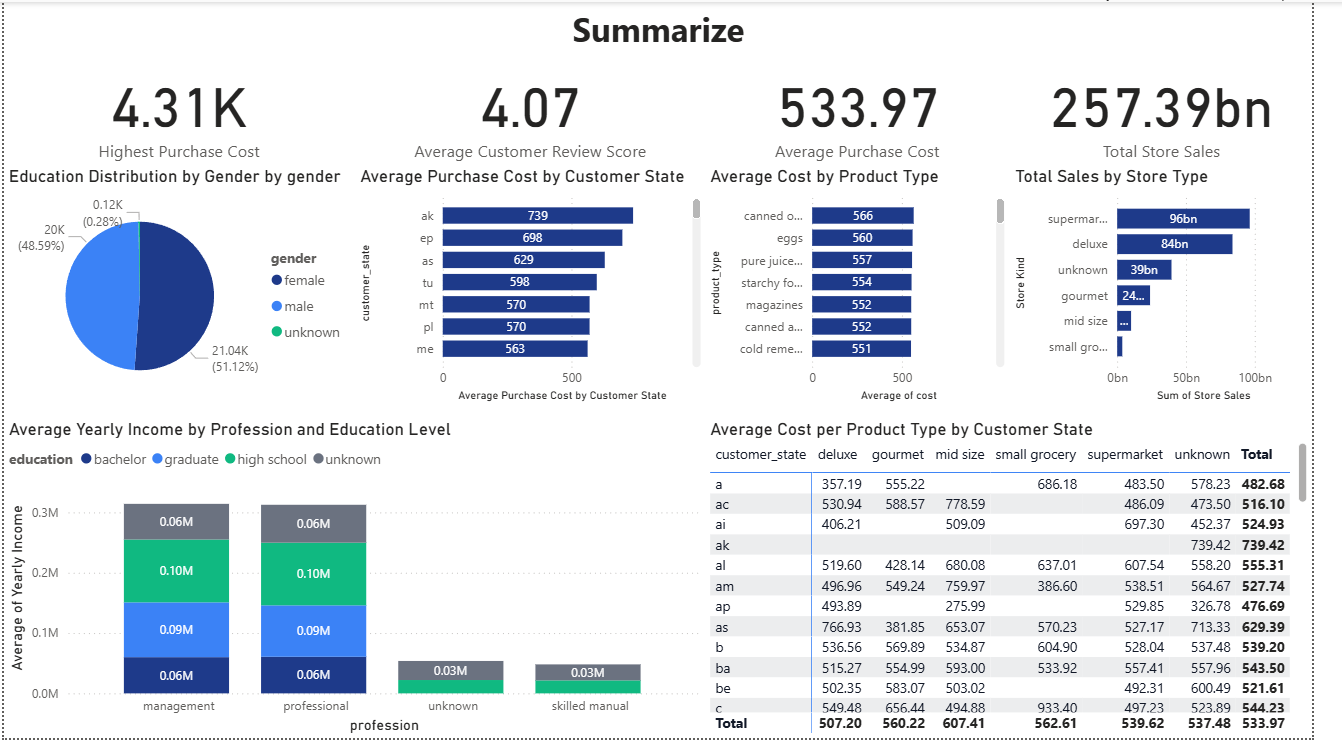

This screenshot's page, from the dashboard's own definition file:
{"tool":"powerbi","page":{"name":"Page 1","canvas":[1280,720],"ordinal":0},"visuals":[{"type":"card","fields":{"Values":["Avg(Sheet1.cost)"]},"box":[686.1,53.5,297.8,107],"z":0},{"type":"card","fields":{"Values":["Max(Sheet1.cost)"]},"box":[0,53.5,343.1,107],"z":1000},{"type":"card","fields":{"Values":["Sum(Sheet1.Store Sales)"]},"box":[983.9,53.5,296.4,107],"z":2000},{"type":"card","fields":{"Values":["Avg(Sheet1.review_score)"]},"box":[343.1,53.5,343.1,107],"z":3000},{"type":"barChart","title":"Average Cost by Product Type","fields":{"Category":["Sheet1.product_type"],"Y":["Avg(Sheet1.cost)"]},"box":[686.1,160.5,297.8,236],"z":4000},{"type":"barChart","title":"Average Purchase Cost by Customer State","fields":{"Y":["Avg(Sheet1.cost)"],"Category":["Sheet1.customer_state"]},"box":[343.1,160.5,343.1,236],"z":5000},{"type":"barChart","title":"Total Sales by Store Type","fields":{"Y":["Sum(Sheet1.Store Sales)"],"Category":["Sheet1.Store Kind"]},"box":[983.9,160.5,296.4,236],"z":6000},{"type":"pivotTable","title":"Average Cost per Product Type by Customer State","fields":{"Rows":["Sheet1.customer_state"],"Values":["Avg(Sheet1.cost)"],"Columns":["Sheet1.Store Kind"]},"box":[686.1,407.5,594.2,312.9],"z":7000},{"type":"columnChart","title":"Average Yearly Income by Profession and Education Level","fields":{"Category":["Sheet1.profession"],"Y":["Avg(Sheet1.Yearly Income)"],"Series":["Sheet1.education"]},"box":[0,407.5,686.1,312.9],"z":8000},{"type":"pieChart","fields":{"Category":["Sheet1.gender"],"Y":["CountNonNull(Sheet1.education)"]},"box":[0,160.5,343.1,236],"z":9000},{"type":"textbox","box":[0,0,1280.3,53.5],"z":10000}]}

Visuals, with their boxes in screenshot pixels (x1, y1, x2, y2), scaled from the page's 1280x720 canvas onto the 1342x748 screenshot:
card - Avg(Sheet1.cost): x1=719 y1=56 x2=1032 y2=167
card - Max(Sheet1.cost): x1=0 y1=56 x2=360 y2=167
card - Sum(Sheet1.Store Sales): x1=1032 y1=56 x2=1341 y2=167
card - Avg(Sheet1.review_score): x1=360 y1=56 x2=719 y2=167
"Average Cost by Product Type" barChart: x1=719 y1=167 x2=1032 y2=412
"Average Purchase Cost by Customer State" barChart: x1=360 y1=167 x2=719 y2=412
"Total Sales by Store Type" barChart: x1=1032 y1=167 x2=1341 y2=412
"Average Cost per Product Type by Customer State" pivotTable: x1=719 y1=423 x2=1341 y2=747
"Average Yearly Income by Profession and Education Level" columnChart: x1=0 y1=423 x2=719 y2=747
pieChart - Sheet1.gender x CountNonNull(Sheet1.education): x1=0 y1=167 x2=360 y2=412
textbox: x1=0 y1=0 x2=1341 y2=56
